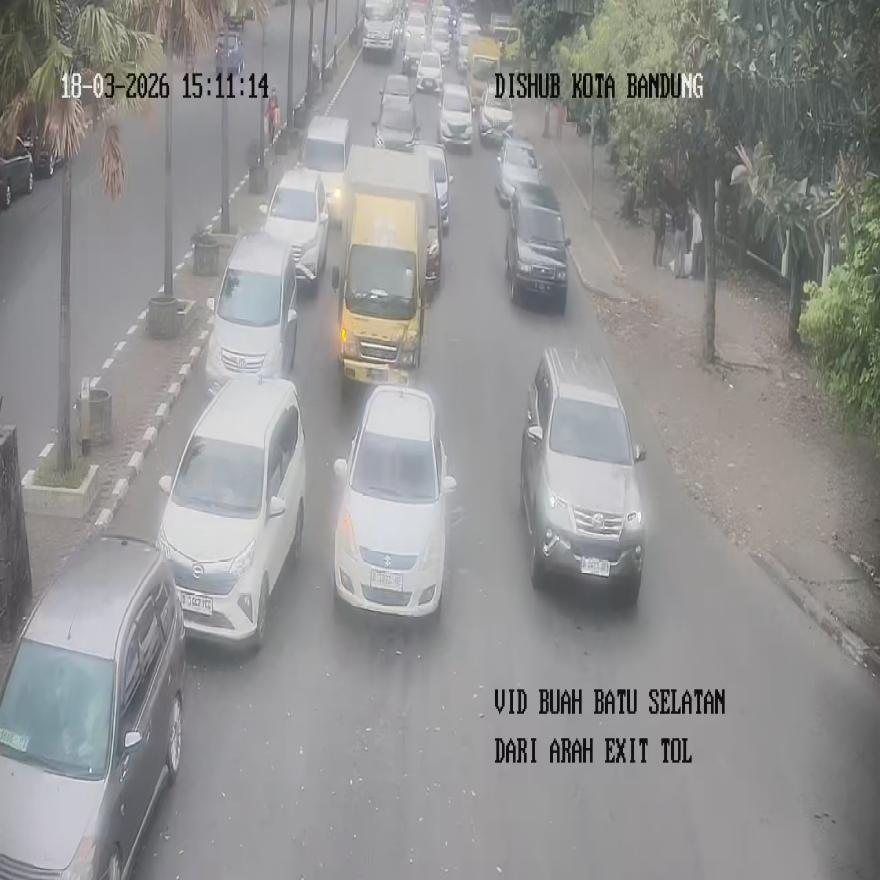Mobil: (0, 533, 186, 876), (156, 374, 305, 648), (519, 346, 646, 599), (332, 383, 457, 617), (204, 231, 298, 395), (506, 178, 572, 310), (258, 164, 328, 286), (299, 114, 350, 226), (372, 74, 421, 150), (495, 134, 542, 206), (437, 82, 474, 148)
